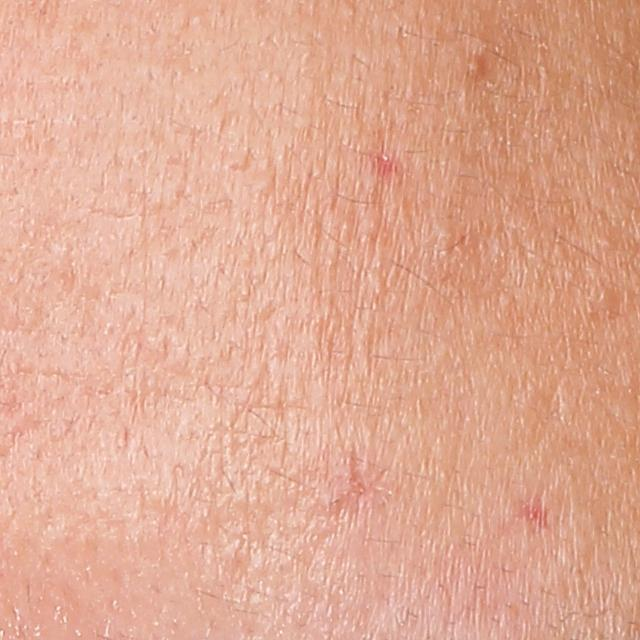comedo: (461, 51, 488, 86), (433, 221, 455, 250)
